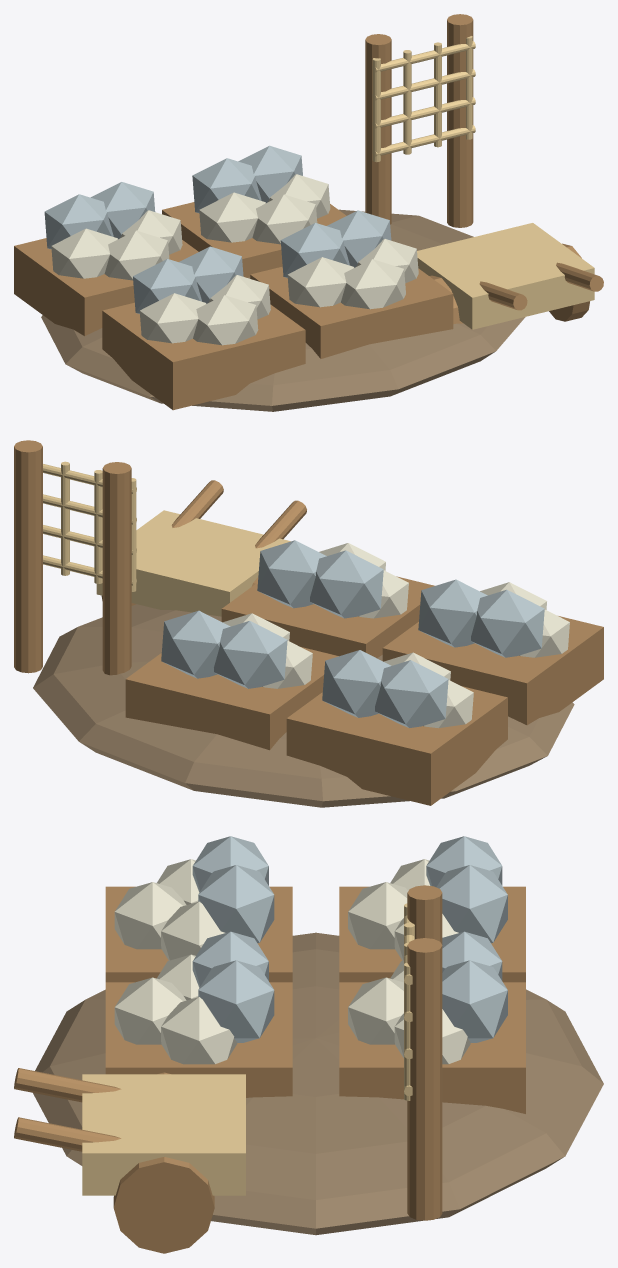
Rendered from PebbleYard3.fbx.
3 views of the same model, one above another, from view 1: azimuth 30°, elevation 25°; view 2: azimuth 150°, elevation 25°; view 3: azimuth 270°, elevation 25° (orthographic). The views are drawn at different scales.
Parts seen in each view (by area): view 1: Stone yard earth.002, Sorting bin.007, Handcart tray.002, Sorting bin.008, Sorting bin.005, Sieve stand.005, Sieve stand.004, Sorting bin.006, Sorted pebble.037, Sorted pebble.042, Sorted pebble.034, Sorted pebble.029 (+27 smaller); view 2: Stone yard earth.002, Sorting bin.005, Handcart tray.002, Sorting bin.006, Sorting bin.007, Sieve stand.005, Sorting bin.008, Sieve stand.004, Sorted pebble.041, Sorted pebble.031, Sorted pebble.036, Sorted pebble.026 (+21 smaller); view 3: Stone yard earth.002, Handcart tray.002, Sorting bin.006, Sieve stand.005, Sorting bin.008, Cart wheel.005, Sorting bin.007, Sorting bin.005, Sorted pebble.043, Sorted pebble.033, Sorted pebble.038, Sorted pebble.028 (+18 smaller).
Boxes of the visible parts, x1,y1,x2,y2 form: Stone yard earth.002: [41, 209, 525, 411]; Sorting bin.007: [102, 302, 305, 410]; Handcart tray.002: [417, 223, 594, 329]; Sorting bin.008: [250, 266, 453, 358]; Sorting bin.005: [14, 238, 198, 336]; Sieve stand.005: [447, 14, 473, 227]; Sieve stand.004: [365, 34, 391, 224]; Sorting bin.006: [162, 202, 346, 277]; Sorted pebble.037: [193, 295, 258, 345]; Sorted pebble.042: [341, 259, 405, 309]; Sorted pebble.034: [199, 192, 265, 242]; Sorted pebble.029: [51, 228, 117, 278]; Stone yard earth.002: [33, 604, 574, 807]; Sorting bin.005: [286, 686, 507, 805]; Handcart tray.002: [96, 510, 290, 616]; Sorting bin.006: [125, 646, 338, 750]; Sorting bin.007: [382, 616, 603, 725]; Sieve stand.005: [14, 440, 42, 673]; Sorting bin.008: [221, 576, 434, 658]; Sieve stand.004: [102, 462, 131, 675]; Sorted pebble.041: [310, 550, 383, 618]; Sorted pebble.031: [214, 621, 287, 688]; Sorted pebble.036: [471, 589, 544, 657]; Sorted pebble.026: [375, 660, 448, 727]; Stone yard earth.002: [33, 932, 603, 1235]; Handcart tray.002: [82, 1074, 245, 1195]; Sorting bin.006: [339, 982, 525, 1113]; Sieve stand.005: [407, 938, 442, 1220]; Sorting bin.008: [105, 982, 292, 1097]; Cart wheel.005: [113, 1157, 214, 1253]; Sorting bin.007: [105, 886, 292, 982]; Sorting bin.005: [339, 886, 525, 982]; Sorted pebble.043: [198, 960, 274, 1042]; Sorted pebble.033: [442, 960, 507, 1042]; Sorted pebble.038: [198, 865, 274, 943]; Sorted pebble.028: [436, 865, 507, 943].
Size of the model in its own units: 176 by 91 by 152.
